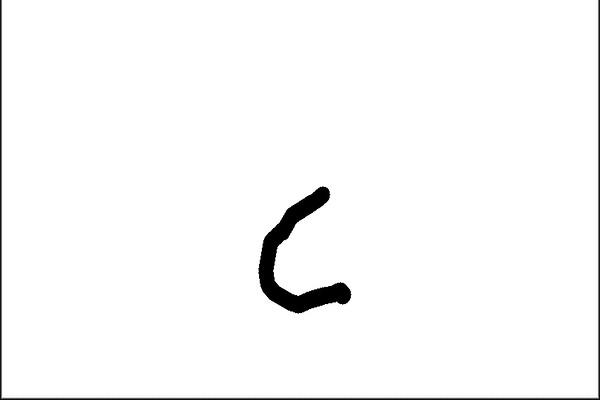C: (253, 180, 355, 316)
